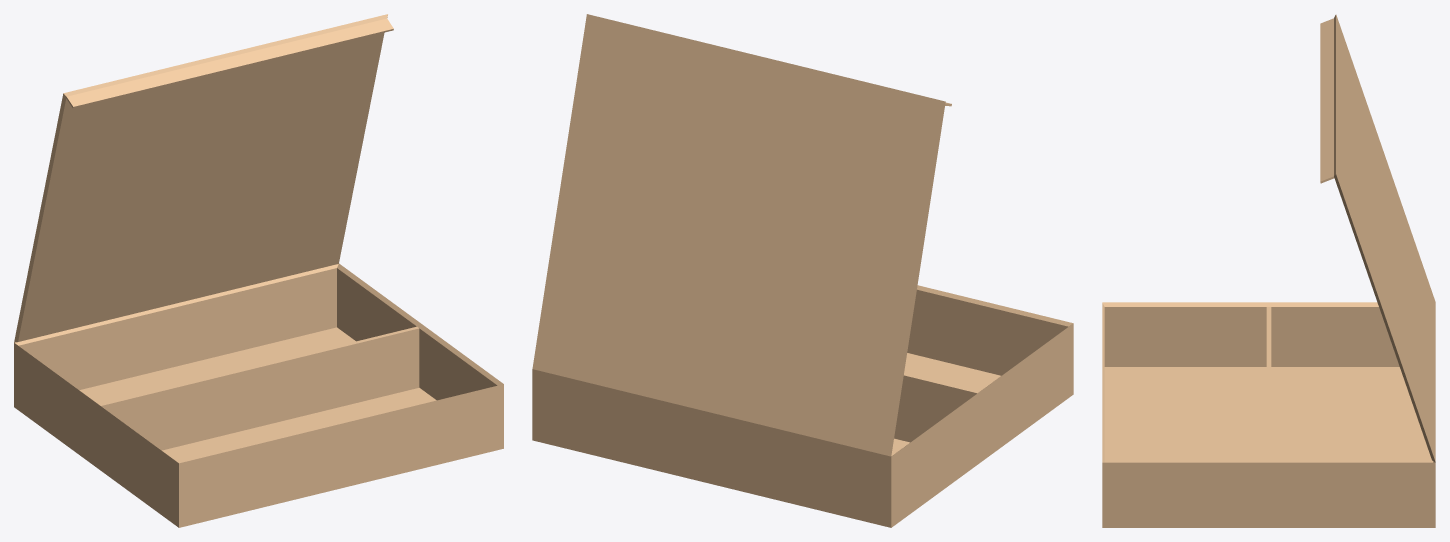
3 renders of one model, left to right at view 1: azimuth 30°, elevation 25°; view 2: azimuth 150°, elevation 25°; view 3: azimuth 270°, elevation 25°, orthographic. The views are drawn at different scales.
Parts seen in each view (by area): view 1: box_for_roll_crem; view 2: box_for_roll_crem; view 3: box_for_roll_crem.
Part boxes in pixels (box(x1,y1,x2,y2)): box_for_roll_crem: box(14, 14, 503, 527); box_for_roll_crem: box(532, 14, 1073, 527); box_for_roll_crem: box(1102, 14, 1435, 527).
Size of the model in its own units: 30 by 30.88 by 26.39.
